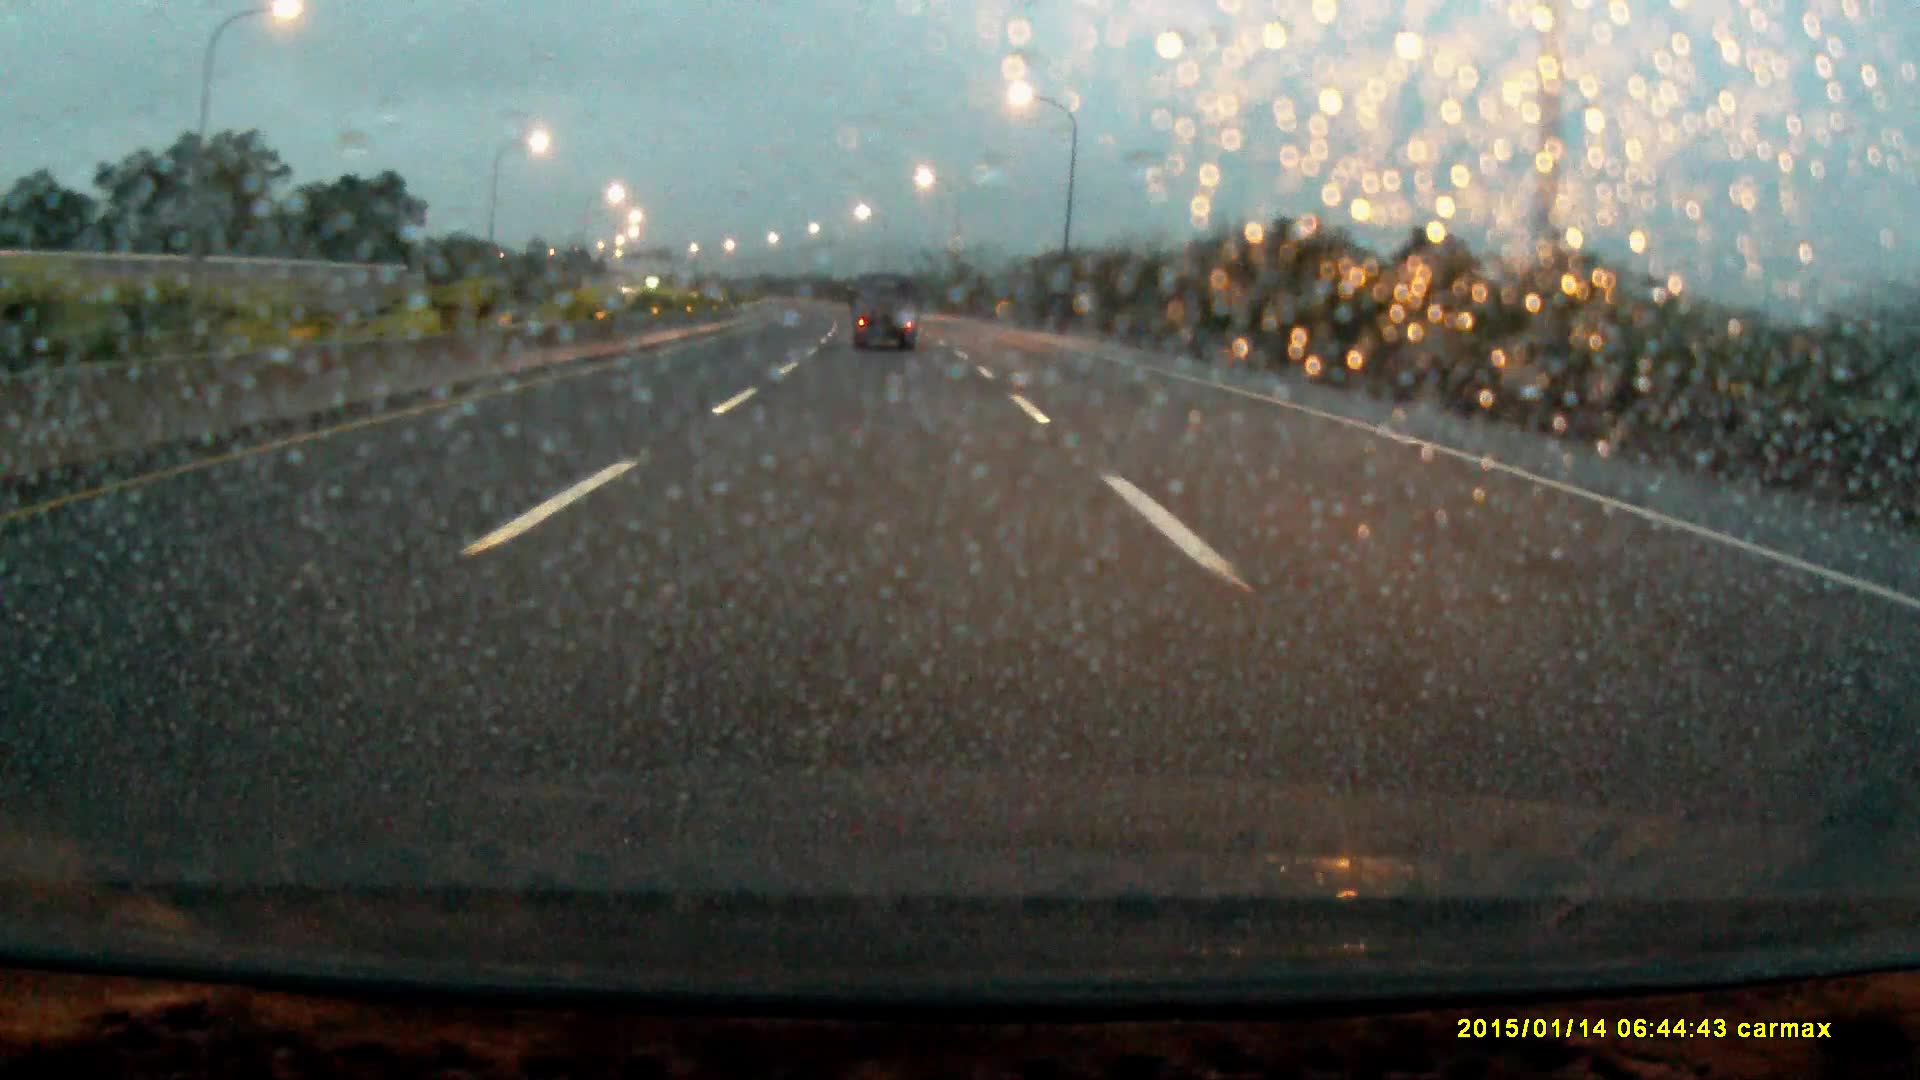vehicle: (851, 274, 919, 355)
